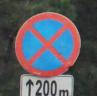No Parking: (15, 13, 84, 79)
